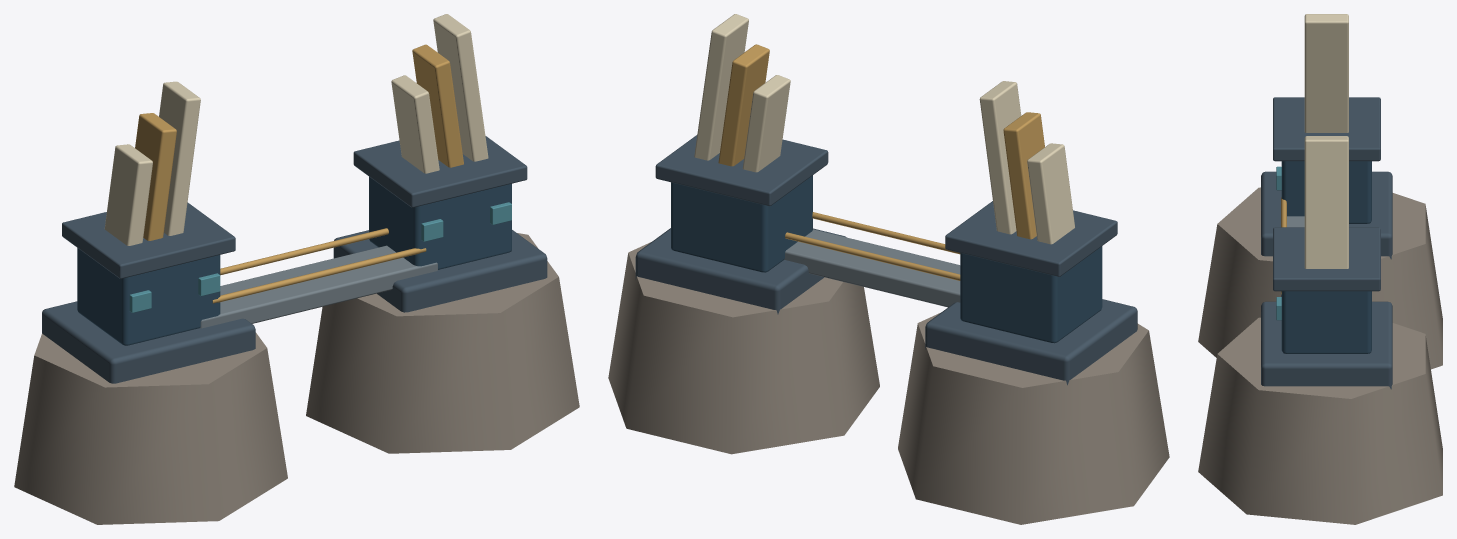
Rendered from cairnrelay.glb.
3 views of the same model, side by side, from view 1: azimuth 30°, elevation 25°; view 2: azimuth 150°, elevation 25°; view 3: azimuth 270°, elevation 25° (orthographic). The views are drawn at different scales.
Parts seen in each view (by area): view 1: Isolated mesa (×2), Relay fin (×6), Habitat pressure shell (×2), Structural deck (×2), Roof slab (×2), Service bridge, Bridge rail (×2); view 2: Isolated mesa (×2), Relay fin (×6), Habitat pressure shell (×2), Structural deck (×2), Roof slab (×2), Service bridge, Bridge rail (×2); view 3: Isolated mesa (×2), Relay fin (×2), Structural deck (×2), Roof slab (×2), Habitat pressure shell (×2).
Part boxes in pixels (left/top/right/bottom): Isolated mesa (×2): left=14, top=233, right=579, bottom=524; Relay fin (×6): left=104, top=14, right=488, bottom=245; Habitat pressure shell (×2): left=77, top=176, right=511, bottom=345; Structural deck (×2): left=42, top=230, right=547, bottom=383; Roof slab (×2): left=62, top=136, right=527, bottom=278; Service bridge: left=200, top=245, right=437, bottom=328; Bridge rail (×2): left=212, top=228, right=426, bottom=303; Isolated mesa (×2): left=608, top=242, right=1169, bottom=524; Relay fin (×6): left=694, top=14, right=1074, bottom=244; Habitat pressure shell (×2): left=671, top=175, right=1102, bottom=343; Structural deck (×2): left=635, top=228, right=1137, bottom=385; Roof slab (×2): left=655, top=135, right=1117, bottom=276; Service bridge: left=784, top=229, right=960, bottom=307; Bridge rail (×2): left=785, top=212, right=960, bottom=280; Isolated mesa (×2): left=1198, top=187, right=1442, bottom=524; Relay fin (×2): left=1304, top=14, right=1348, bottom=268; Structural deck (×2): left=1261, top=171, right=1392, bottom=389; Roof slab (×2): left=1273, top=97, right=1380, bottom=291; Habitat pressure shell (×2): left=1281, top=161, right=1371, bottom=353.
Size of the model in its own units: 3.78 by 2.54 by 1.65.
